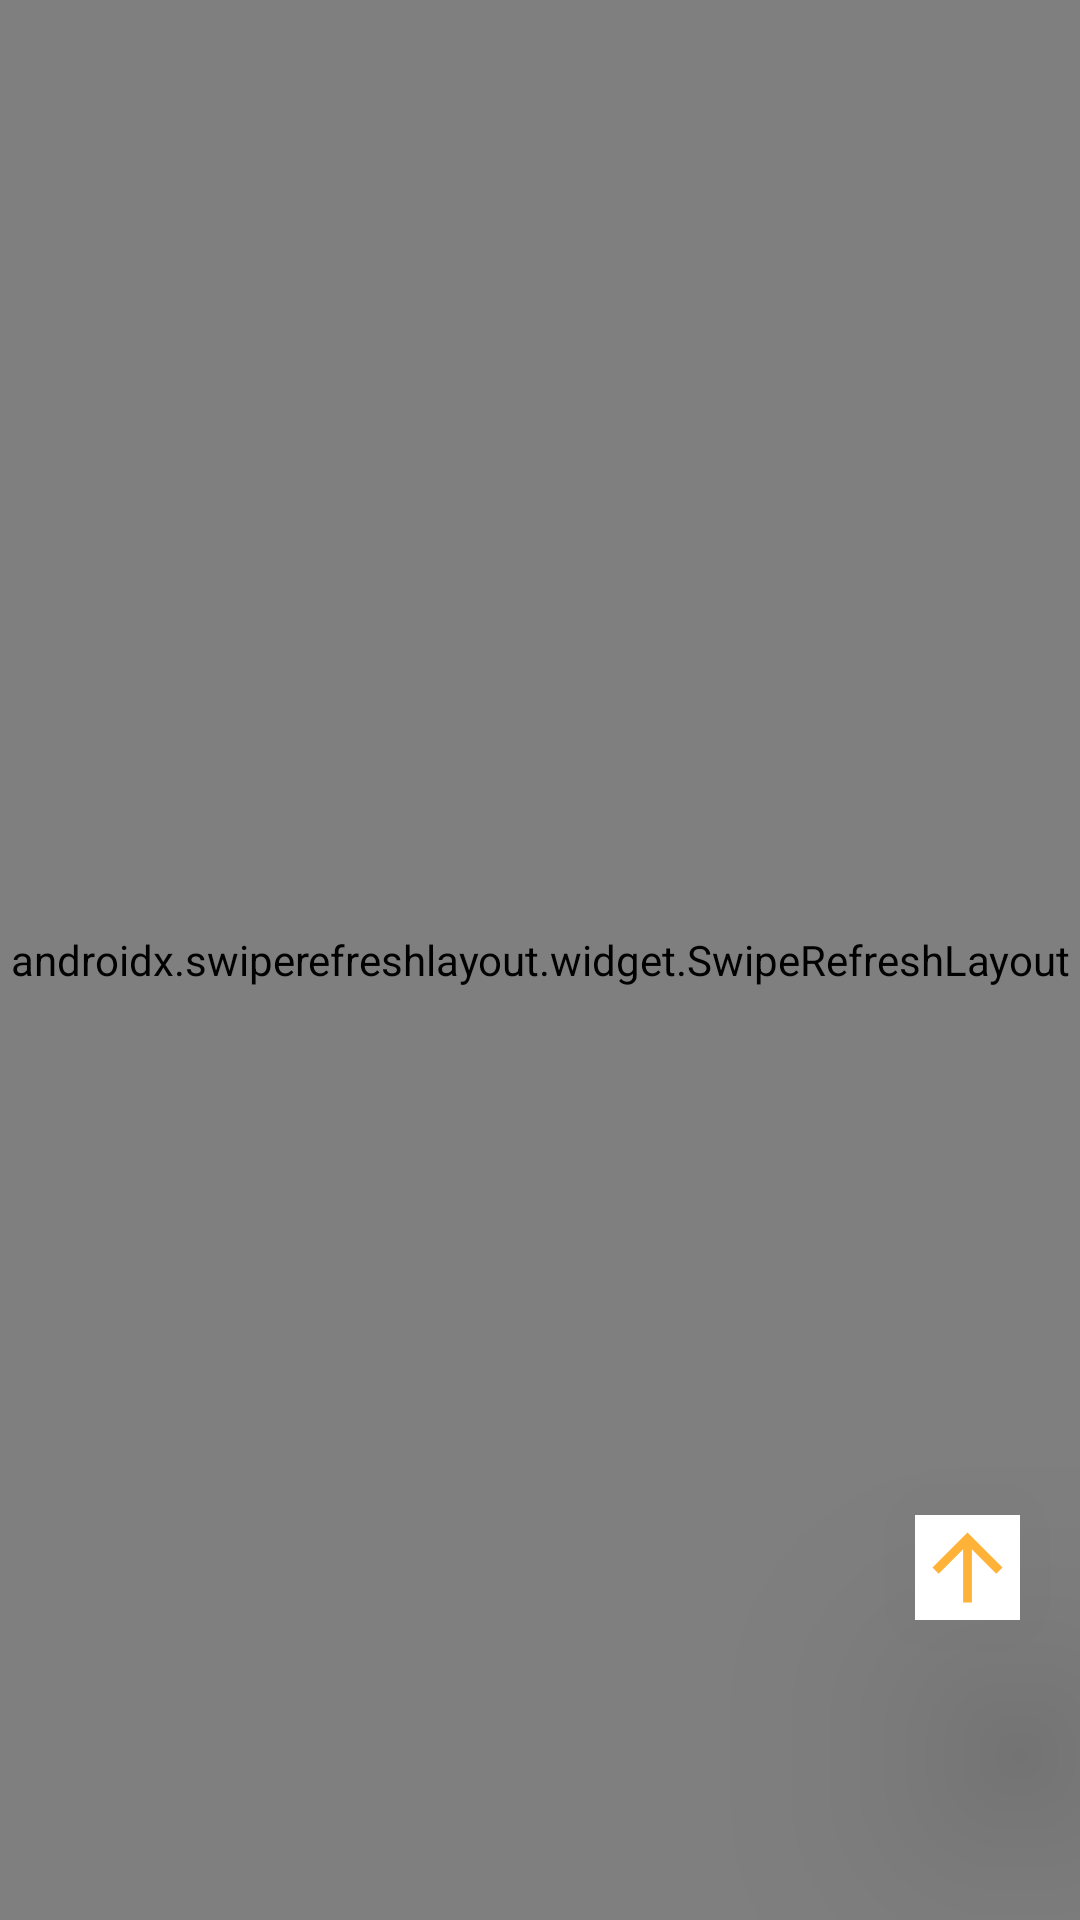

Screen size 1080px x 1920px. Icon name, then its box in pixels as (left=x1, top=y1, right=x2, bottom=y2):
arrow upward: (left=915, top=1515, right=1020, bottom=1620)
